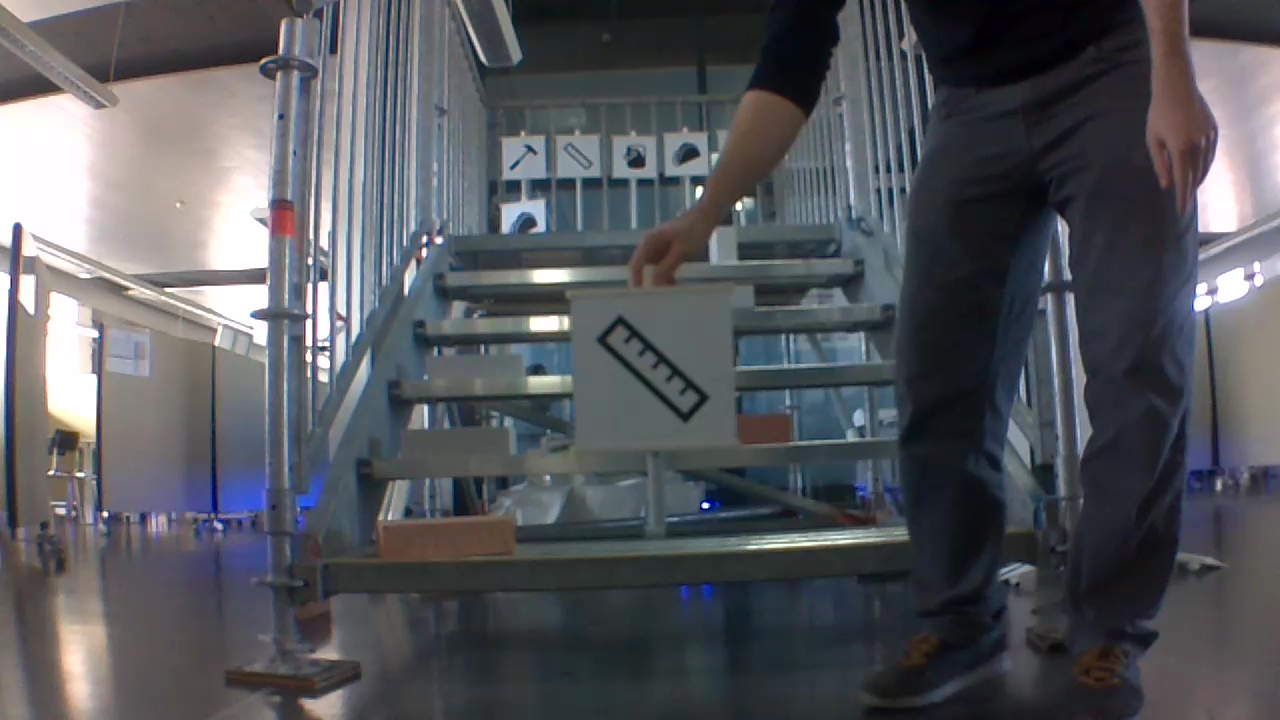brick: (374, 513, 518, 564), (400, 422, 521, 458), (424, 353, 527, 384), (734, 412, 794, 442), (711, 227, 739, 262)
bucket: (620, 140, 649, 170)
hammer: (508, 142, 539, 172)
ruler: (600, 314, 715, 425), (561, 142, 593, 171)
taco: (505, 207, 540, 237), (675, 141, 700, 169)
